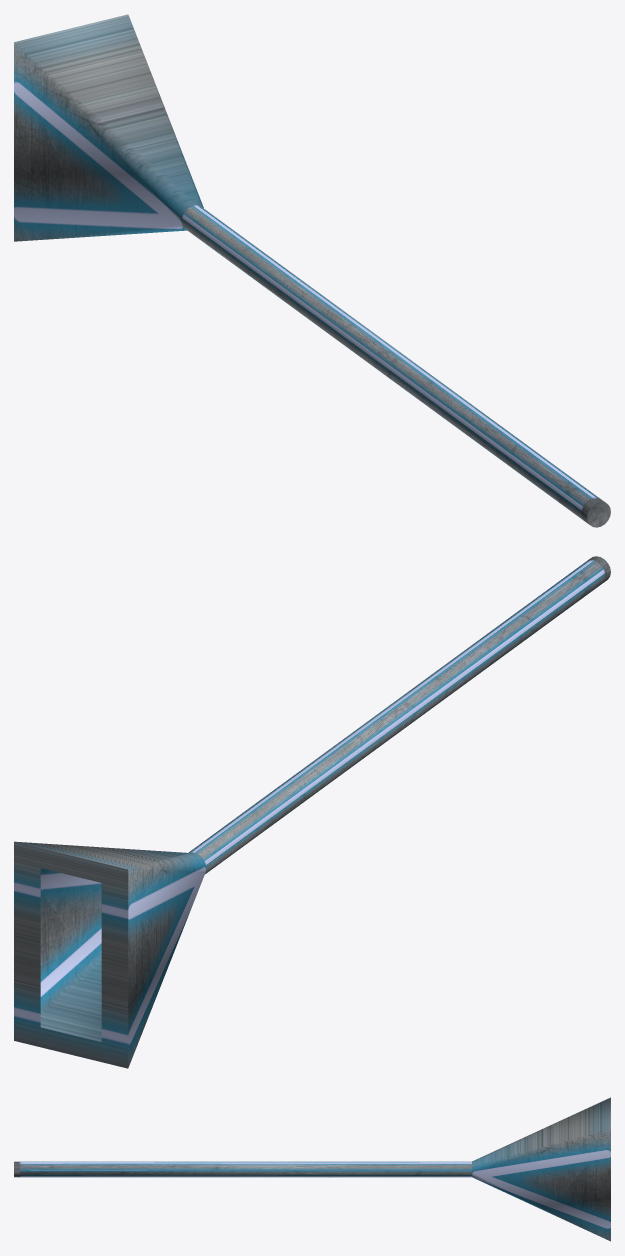
File: broom.FBX
The picture shows the model from 3 angles, top to bottom: view 1: azimuth 30°, elevation 25°; view 2: azimuth 150°, elevation 25°; view 3: azimuth 270°, elevation 25°; orthographic projection. The views are drawn at different scales.
Parts seen in each view (by area): view 1: Cylinder001; view 2: Cylinder001; view 3: Cylinder001.
Boxes of the visible parts, x1,y1,x2,y2 form: Cylinder001: (14,14,610,527); Cylinder001: (14,556,610,1068); Cylinder001: (14,1097,610,1241).
Size of the model in its own units: 30 by 50 by 240.
